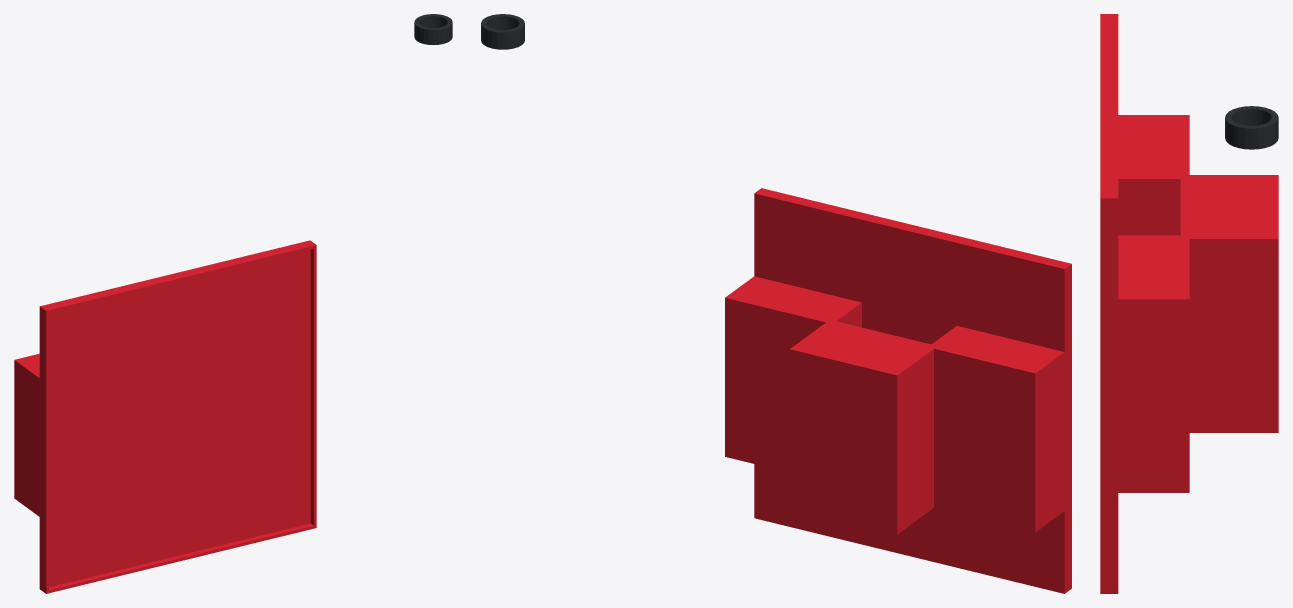
The model's file is tinker.obj.
3 views of the same model, side by side, from view 1: azimuth 30°, elevation 25°; view 2: azimuth 150°, elevation 25°; view 3: azimuth 270°, elevation 25° (orthographic). The views are drawn at different scales.
Visible parts, largest first — view 1: group_0_15277357, group_0_2829873; view 2: group_0_15277357, group_0_2829873; view 3: group_0_15277357, group_0_2829873.
Part boxes in pixels (box(x1,y1,x2,y2)): group_0_15277357: box(14, 240, 316, 593); group_0_2829873: box(414, 14, 452, 44); group_0_15277357: box(725, 188, 1071, 593); group_0_2829873: box(481, 14, 524, 49); group_0_15277357: box(1100, 14, 1278, 593); group_0_2829873: box(1225, 106, 1278, 149).
Size of the model in its own units: 41.5 by 36.75 by 10.
